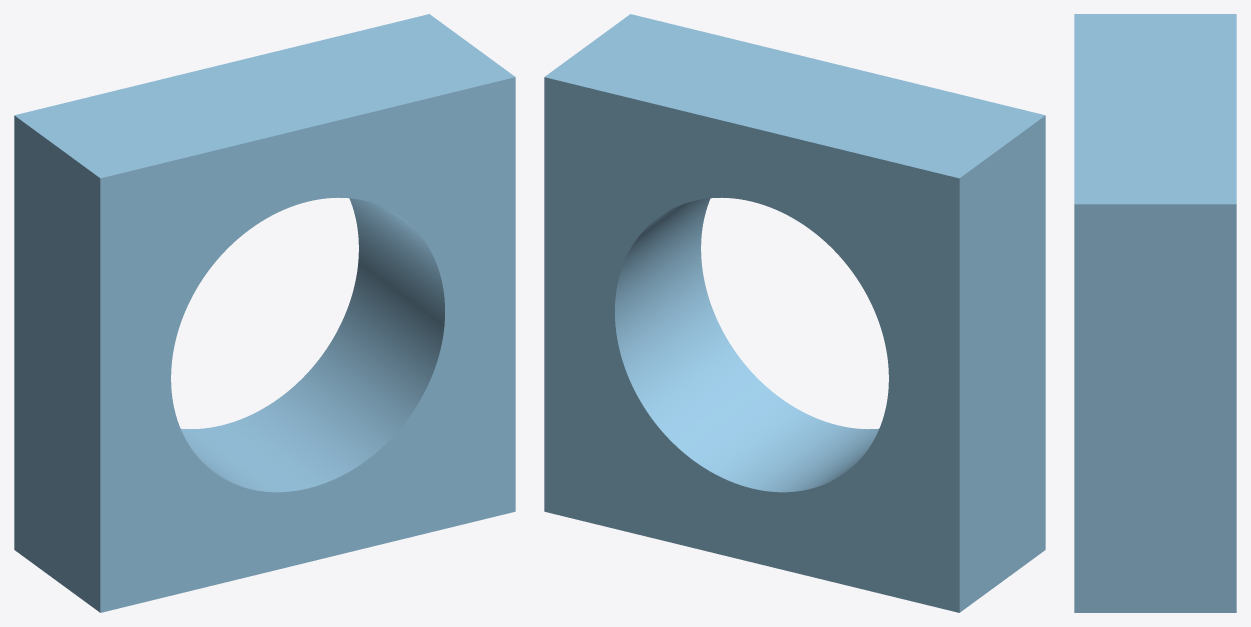
File: factory_round_hole_16mm_subdiv_3x.obj
The picture shows the model from 3 angles, left to right: view 1: azimuth 30°, elevation 25°; view 2: azimuth 150°, elevation 25°; view 3: azimuth 270°, elevation 25°; orthographic projection. The views are drawn at different scales.
Visible parts, largest first — view 1: mesh1, mesh5, mesh4, mesh0; view 2: mesh2, mesh5, mesh4, mesh0; view 3: mesh3, mesh4.
Part boxes in pixels (x1,y1,x2,y2): mesh1: (100, 77, 515, 612); mesh5: (14, 115, 100, 612); mesh4: (15, 14, 515, 178); mesh0: (181, 198, 444, 492); mesh2: (544, 77, 959, 612); mesh5: (959, 115, 1045, 612); mesh4: (544, 14, 1044, 178); mesh0: (615, 198, 878, 492); mesh3: (1074, 204, 1236, 612); mesh4: (1074, 14, 1236, 204).
Bounding box in the file's own units: 0.025 × 0.025 × 0.00899.
